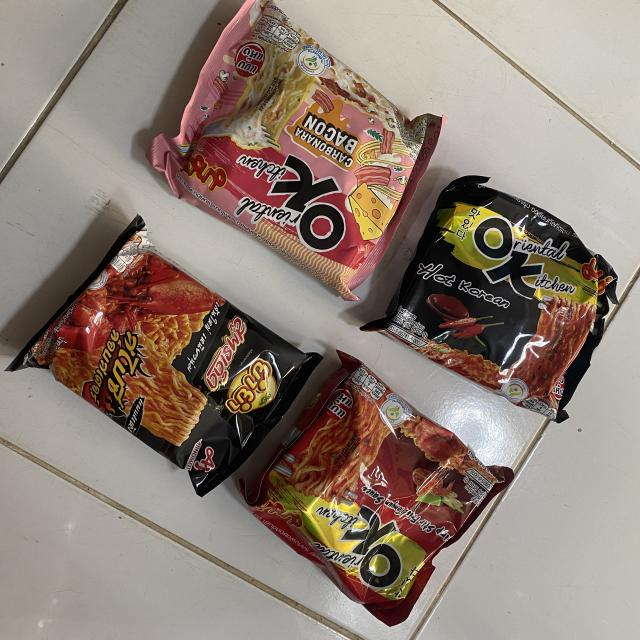plastik: (147, 0, 445, 300), (7, 215, 322, 495), (240, 351, 514, 626), (362, 176, 617, 421)
